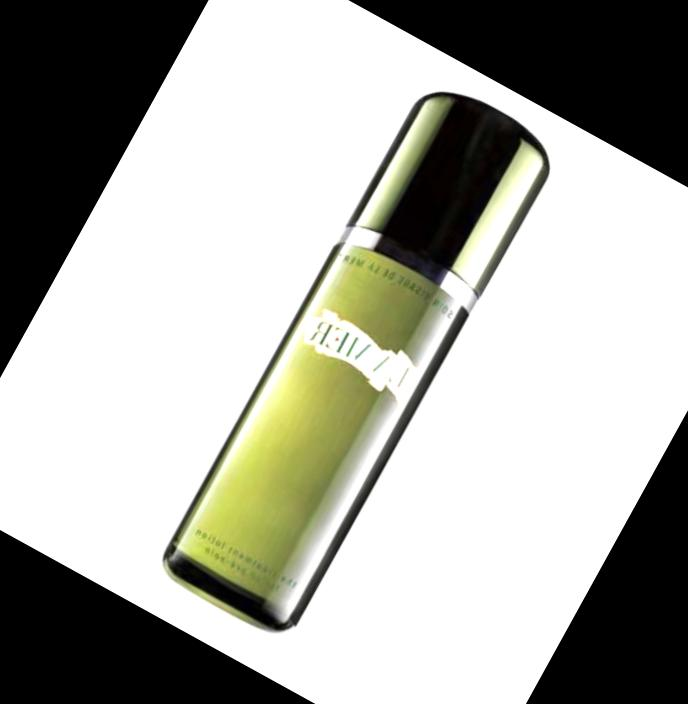cosmetic: (148, 74, 559, 642)
